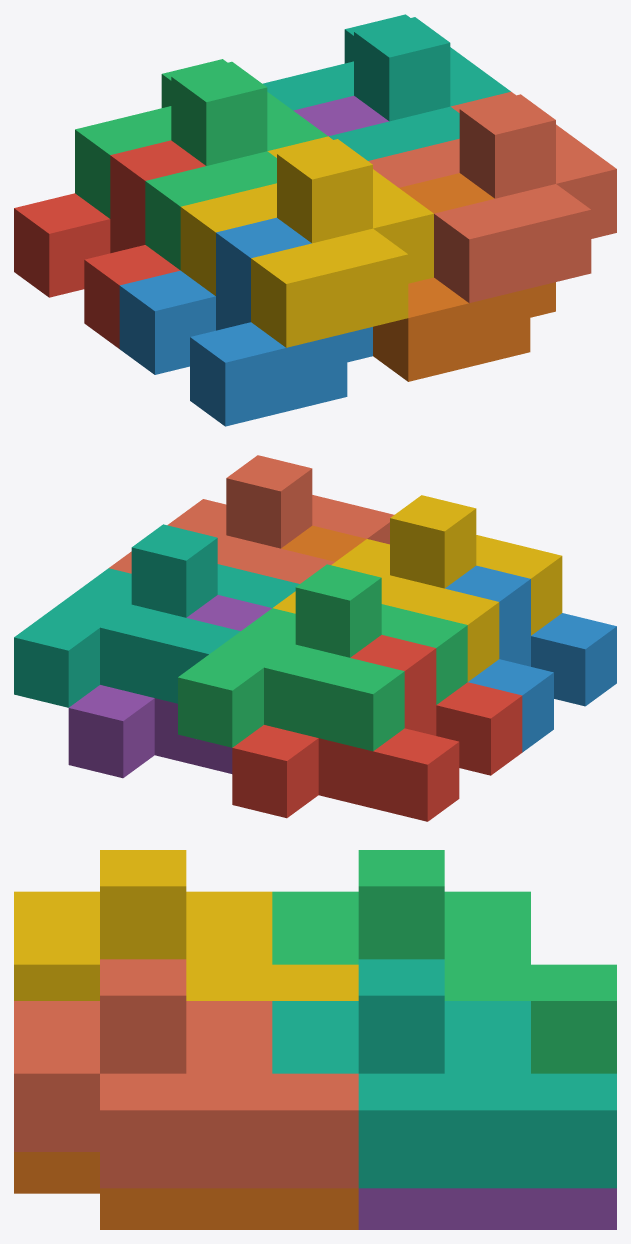
The model's file is tiling.obj.
3 renders of one model, top to bottom at view 1: azimuth 30°, elevation 25°; view 2: azimuth 150°, elevation 25°; view 3: azimuth 270°, elevation 25°, orthographic. The views are drawn at different scales.
Parts seen in each view (by area): view 1: copy_1_domain_4, copy_1_domain_8, copy_1_domain_2, copy_1_domain_3, copy_1_domain_7, copy_1_domain_1, copy_1_domain_6, copy_1_domain_5; view 2: copy_1_domain_3, copy_1_domain_7, copy_1_domain_1, copy_1_domain_4, copy_1_domain_8, copy_1_domain_2, copy_1_domain_5, copy_1_domain_6; view 3: copy_1_domain_8, copy_1_domain_7, copy_1_domain_3, copy_1_domain_4, copy_1_domain_6, copy_1_domain_5.
Part boxes in pixels (x1,y1,x2,y2): copy_1_domain_4: (180,136,433,347); copy_1_domain_8: (368,91,616,303); copy_1_domain_2: (119,217,372,426); copy_1_domain_3: (75,59,327,270); copy_1_domain_7: (263,14,510,160); copy_1_domain_1: (14,140,205,348); copy_1_domain_6: (373,173,555,381); copy_1_domain_5: (293,96,388,136); copy_1_domain_3: (178,564,467,751); copy_1_domain_7: (14,524,299,707); copy_1_domain_1: (232,635,522,821); copy_1_domain_4: (273,495,562,681); copy_1_domain_8: (109,455,394,583); copy_1_domain_2: (445,565,616,752); copy_1_domain_5: (68,595,271,778); copy_1_domain_6: (281,525,366,561); copy_1_domain_8: (14,959,358,1188); copy_1_domain_7: (272,959,616,1188); copy_1_domain_3: (272,850,616,1073); copy_1_domain_4: (14,850,358,1000); copy_1_domain_6: (14,1152,358,1229); copy_1_domain_5: (358,1188,616,1229).
Bounding box in the file's own units: 7 × 3 × 7.
